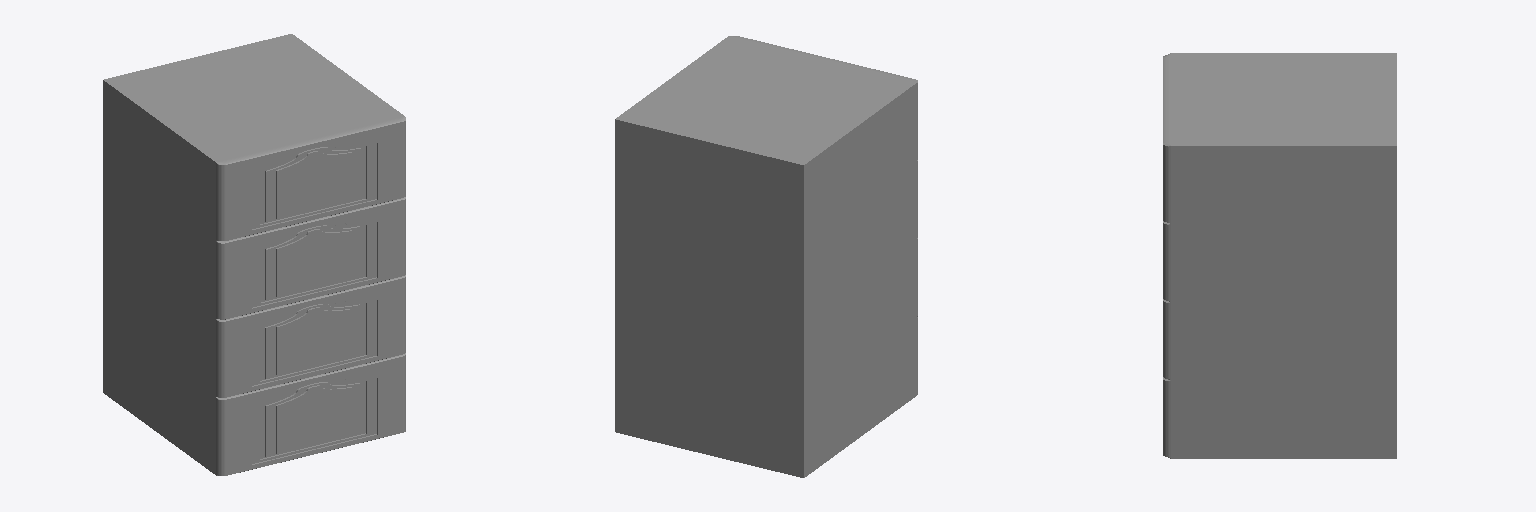
Rendered from drawer-pack-550.obj.
3 renders of one model, left to right at view 1: azimuth 30°, elevation 25°; view 2: azimuth 150°, elevation 25°; view 3: azimuth 270°, elevation 25°, orthographic.
Parts seen in each view (by area): view 1: Cube.002_Cube.004, Cube_Cube.002, Cube.006_Cube.005, Cube.005_Cube.001, Cube.003_Cube.008, Cube.004_Cube.000, Cube.001_Cube.003; view 2: Cube_Cube.002, Cube.002_Cube.004, Cube.001_Cube.003, Cube.006_Cube.005; view 3: Cube.001_Cube.003, Cube_Cube.002, Cube.006_Cube.005, Cube.002_Cube.004, Cube.003_Cube.008, Cube.004_Cube.000, Cube.005_Cube.001.
Boxes of the visible parts, box(x1,y1,x2,y2) form: Cube.002_Cube.004: box(103, 79, 219, 474); Cube_Cube.002: box(108, 35, 399, 160); Cube.006_Cube.005: box(216, 117, 405, 240); Cube.005_Cube.001: box(216, 197, 405, 319); Cube.003_Cube.008: box(216, 353, 405, 475); Cube.004_Cube.000: box(216, 275, 405, 397); Cube.001_Cube.003: box(288, 34, 404, 116); Cube_Cube.002: box(620, 38, 911, 476); Cube.002_Cube.004: box(799, 81, 916, 477); Cube.001_Cube.003: box(615, 37, 731, 432); Cube.006_Cube.005: box(728, 36, 917, 159); Cube.001_Cube.003: box(1171, 143, 1396, 458); Cube_Cube.002: box(1171, 56, 1396, 142); Cube.006_Cube.005: box(1163, 53, 1170, 223); Cube.002_Cube.004: box(1171, 53, 1396, 55); Cube.003_Cube.008: box(1163, 377, 1170, 458); Cube.004_Cube.000: box(1163, 299, 1170, 379); Cube.005_Cube.001: box(1163, 221, 1170, 301).
Bounding box in the file's own units: 110 × 174 × 118.